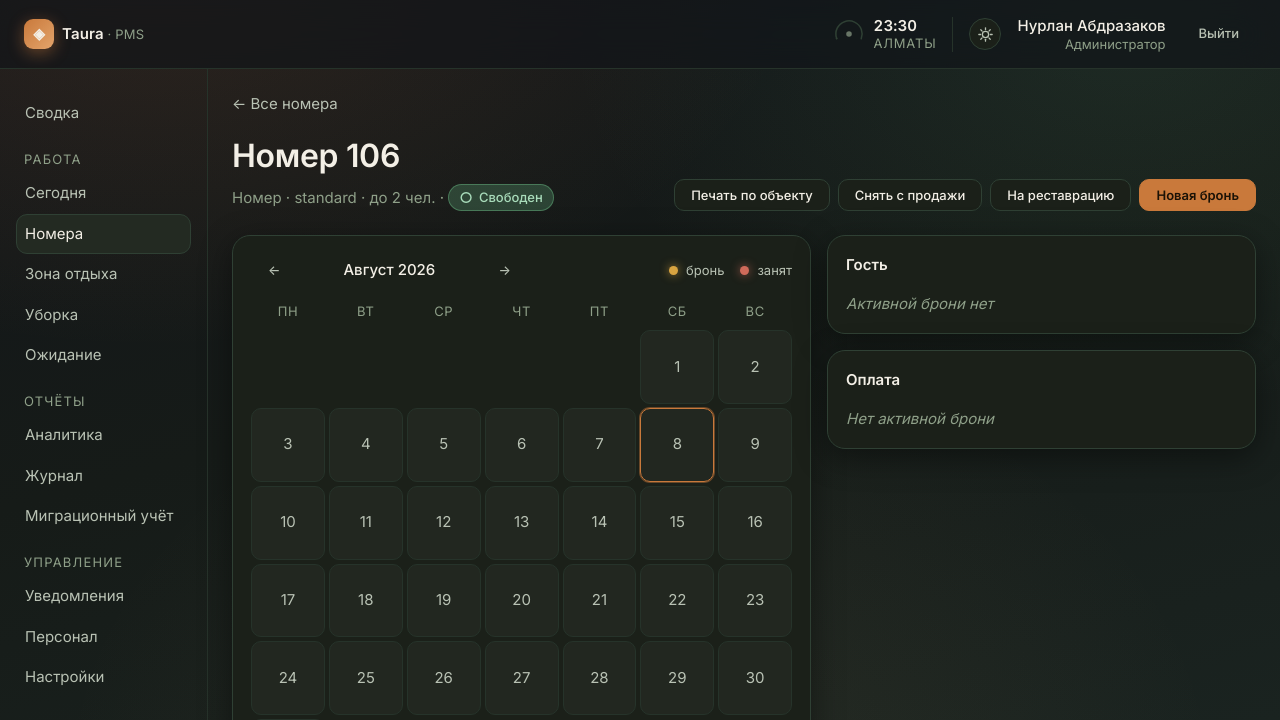
Almaty time in the UI › defaults a new booking to the hotel date, and checkout to the next day
Click the button "Новая бронь" at x=1198, y=195, box [1139,179,1256,211]
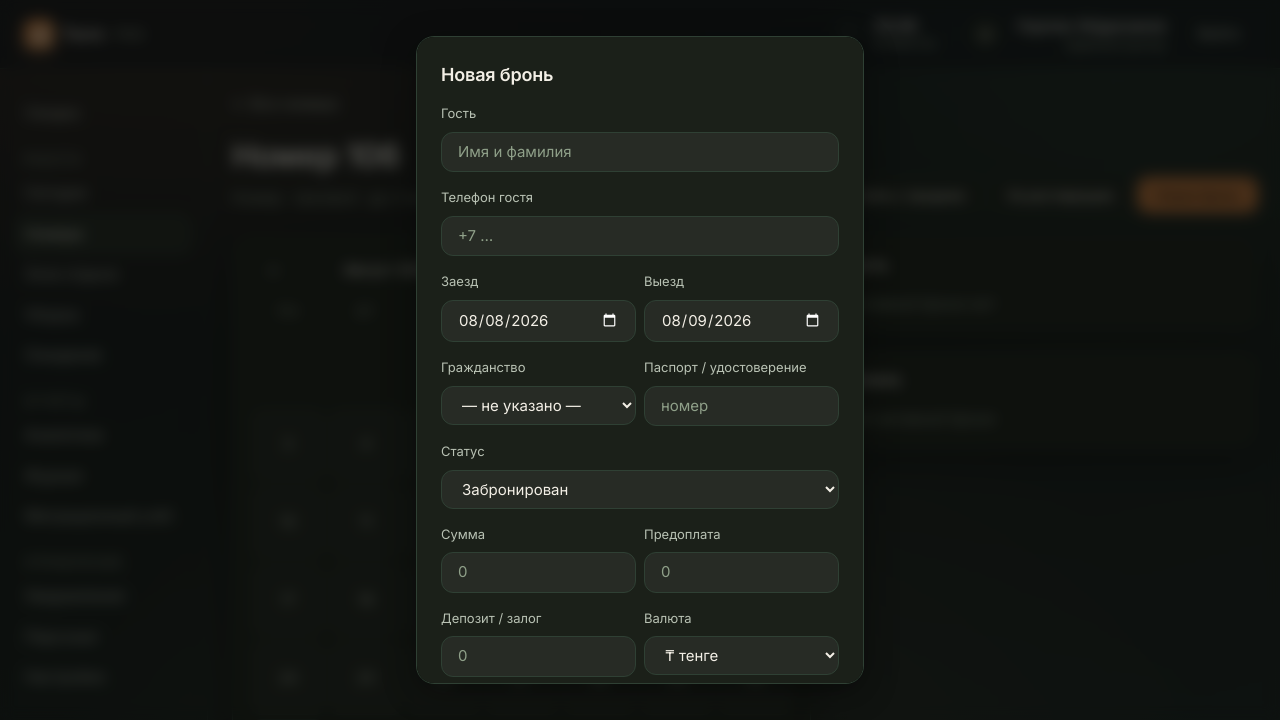
Check: the date field labelled "Заезд" holds "2026-08-08", box [441,300,636,342]
Check: the date field labelled "Выезд" holds "2026-08-09", box [644,300,839,342]
